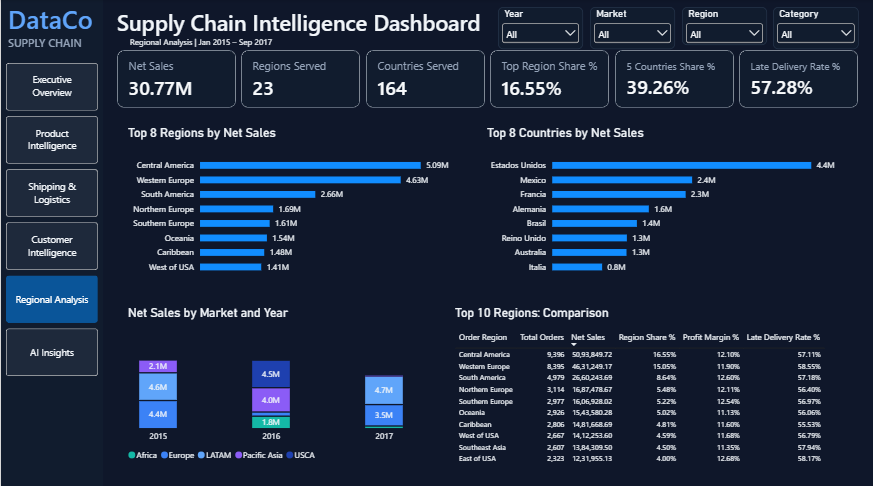

The dashboard page shown, as its layout file describes it:
{"tool":"powerbi","page":{"name":"Regional Analysis","canvas":[1280,720],"ordinal":4},"visuals":[{"type":"shape","box":[0,0,150,720],"z":0},{"type":"textbox","box":[10,4.4,136.1,62.6],"z":1000},{"type":"textbox","box":[10,52.9,136.1,41],"z":2000},{"type":"textbox","box":[170,12,600,50],"z":3000},{"type":"cardVisual","fields":{"Data":["Table.Regions Served"]},"box":[353,75,175,85],"z":4000},{"type":"cardVisual","fields":{"Data":["Table.Countries Served"]},"box":[536,75,175,85],"z":5000},{"type":"cardVisual","fields":{"Data":["Table.Top Region Share %"]},"box":[719,75,175,85],"z":6000},{"type":"cardVisual","fields":{"Data":["Table.Top 5 Countries Share %"]},"box":[902,75,175,85],"z":7000},{"type":"cardVisual","fields":{"Data":["Table.Late Delivery Rate %"]},"box":[1085,75,175,85],"z":8000},{"type":"cardVisual","fields":{"Data":["Table.Net Sales"]},"box":[170,75,175,85],"z":9000},{"type":"slicer","title":"Year","fields":{"Values":["Calender.Year"]},"box":[730.3,11.8,124.9,61.7],"z":10000},{"type":"slicer","title":"Year","fields":{"Values":["DataCo.Market"]},"box":[865.5,11.8,124.9,61.7],"z":11000},{"type":"slicer","title":"Year","fields":{"Values":["DataCo.Order Region"]},"box":[1000.7,11.8,124.9,55.8],"z":12000},{"type":"slicer","title":"Year","fields":{"Values":["DataCo.Category Name"]},"box":[1134.4,11.8,126.4,61.7],"z":13000},{"type":"clusteredBarChart","title":"Top 8 Regions by Net Sales","fields":{"Category":["DataCo.Order Region"],"Y":["Table.Net Sales"]},"box":[170,172,520,252],"z":14000},{"type":"pageNavigator","box":[7.3,94,135,462.9],"z":15000},{"type":"clusteredBarChart","title":"Top 8 Countries by Net Sales","fields":{"Y":["Table.Net Sales"],"Category":["DataCo.Order Country"]},"box":[698,172,562,252],"z":16000},{"type":"columnChart","title":"Net Sales by Market and Year","fields":{"Category":["Calendar.Year"],"Y":["Table.Net Sales"],"Series":["DataCo.Market"]},"box":[170.4,436.4,452.6,263],"z":17000},{"type":"tableEx","title":"Top 10 Regions: Comparison","fields":{"Values":["DataCo.Order Region","Table.Total Orders","Table.Net Sales","Table.Region Share %","Table.Profit Margin %","Table.Late Delivery Rate %"]},"box":[650.9,436.4,589.2,263],"z":18000},{"type":"textbox","box":[189.6,52.9,229.2,30.9],"z":19000}]}

Visuals, with their boxes in screenshot pixels (x1, y1, x2, y2), scaled from the page's 1280x720 canvas onto the 873x486 screenshot:
shape: locate(0, 0, 102, 485)
textbox: locate(7, 3, 100, 45)
textbox: locate(7, 36, 100, 63)
textbox: locate(116, 8, 525, 42)
cardVisual - Table.Regions Served: locate(241, 51, 360, 108)
cardVisual - Table.Countries Served: locate(366, 51, 485, 108)
cardVisual - Table.Top Region Share %: locate(490, 51, 610, 108)
cardVisual - Table.Top 5 Countries Share %: locate(615, 51, 735, 108)
cardVisual - Table.Late Delivery Rate %: locate(740, 51, 859, 108)
cardVisual - Table.Net Sales: locate(116, 51, 235, 108)
"Year" slicer: locate(498, 8, 583, 50)
"Year" slicer: locate(590, 8, 675, 50)
"Year" slicer: locate(683, 8, 768, 46)
"Year" slicer: locate(774, 8, 860, 50)
"Top 8 Regions by Net Sales" clusteredBarChart: locate(116, 116, 471, 286)
pageNavigator: locate(5, 63, 97, 376)
"Top 8 Countries by Net Sales" clusteredBarChart: locate(476, 116, 859, 286)
"Net Sales by Market and Year" columnChart: locate(116, 295, 425, 472)
"Top 10 Regions: Comparison" tableEx: locate(444, 295, 846, 472)
textbox: locate(129, 36, 286, 57)
